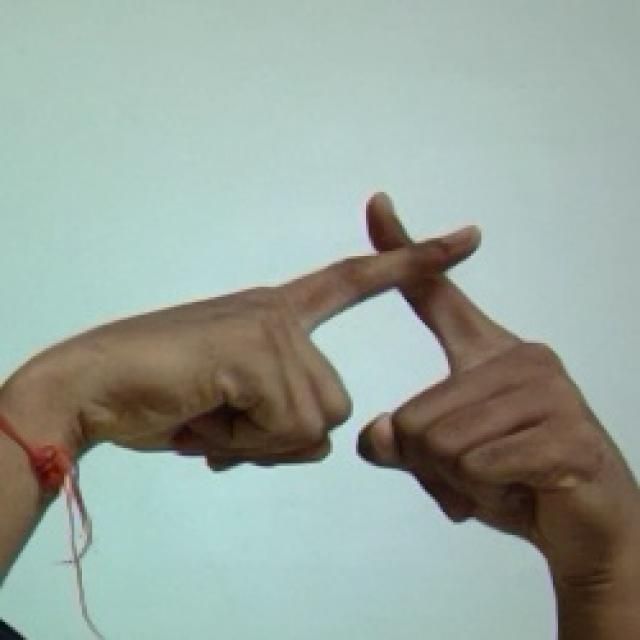Alphabet-X: (92, 188, 636, 551)
